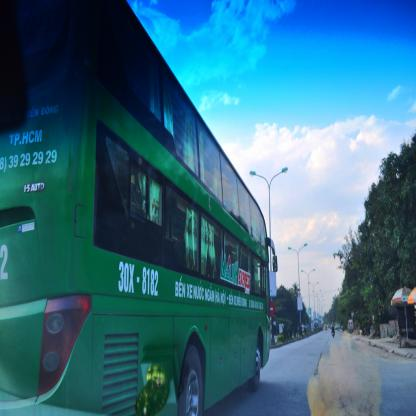Bus: (0, 0, 277, 416)
